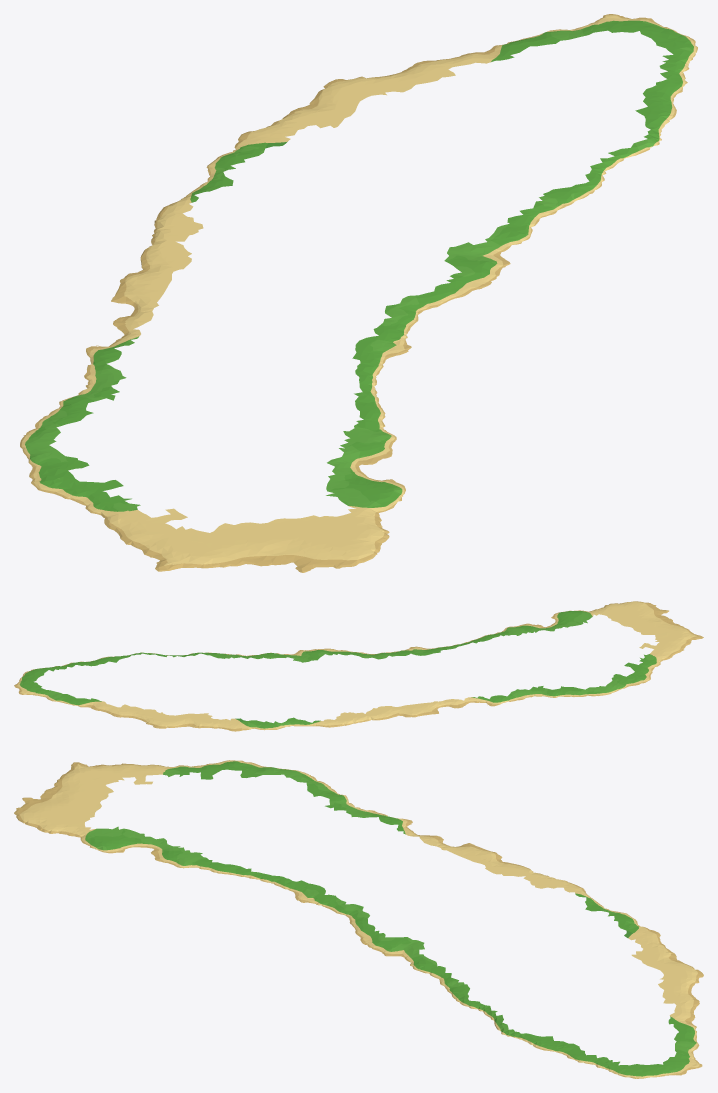
The model's file is Isl-long1-Ground.fbx.
3 views of the same model, one above another, from view 1: azimuth 30°, elevation 25°; view 2: azimuth 150°, elevation 25°; view 3: azimuth 270°, elevation 25° (orthographic). The views are drawn at different scales.
Visible parts, largest first — view 1: Isl-long1-Ground-c11, Isl-long1-Ground-c22, Isl-long1-Ground-c10, Isl-long1-Ground-c21, Isl-long1-Ground-c32, Isl-long1-Ground-c12; view 2: Isl-long1-Ground-c11, Isl-long1-Ground-c22, Isl-long1-Ground-c10, Isl-long1-Ground-c12, Isl-long1-Ground-c32, Isl-long1-Ground-c21; view 3: Isl-long1-Ground-c11, Isl-long1-Ground-c22, Isl-long1-Ground-c10, Isl-long1-Ground-c32, Isl-long1-Ground-c21, Isl-long1-Ground-c12.
Boxes of the visible parts, x1=… form: Isl-long1-Ground-c11: x1=20, y1=329, x2=405, y2=560; Isl-long1-Ground-c22: x1=162, y1=45, x2=643, y2=252; Isl-long1-Ground-c10: x1=155, y1=502, x2=395, y2=572; Isl-long1-Ground-c21: x1=356, y1=233, x2=530, y2=367; Isl-long1-Ground-c32: x1=499, y1=14, x2=697, y2=151; Isl-long1-Ground-c12: x1=111, y1=207, x2=198, y2=333; Isl-long1-Ground-c11: x1=426, y1=610, x2=691, y2=706; Isl-long1-Ground-c22: x1=80, y1=652, x2=346, y2=731; Isl-long1-Ground-c10: x1=578, y1=601, x2=703, y2=639; Isl-long1-Ground-c12: x1=330, y1=699, x2=468, y2=727; Isl-long1-Ground-c32: x1=14, y1=652, x2=151, y2=706; Isl-long1-Ground-c21: x1=268, y1=646, x2=438, y2=661; Isl-long1-Ground-c11: x1=84, y1=760, x2=418, y2=887; Isl-long1-Ground-c22: x1=418, y1=885, x2=703, y2=1027; Isl-long1-Ground-c10: x1=14, y1=762, x2=91, y2=844; Isl-long1-Ground-c32: x1=496, y1=1025, x2=702, y2=1078; Isl-long1-Ground-c21: x1=283, y1=885, x2=420, y2=970; Isl-long1-Ground-c12: x1=418, y1=835, x2=581, y2=887.
Size of the model in its own units: 135 by 0.4898 by 124.
